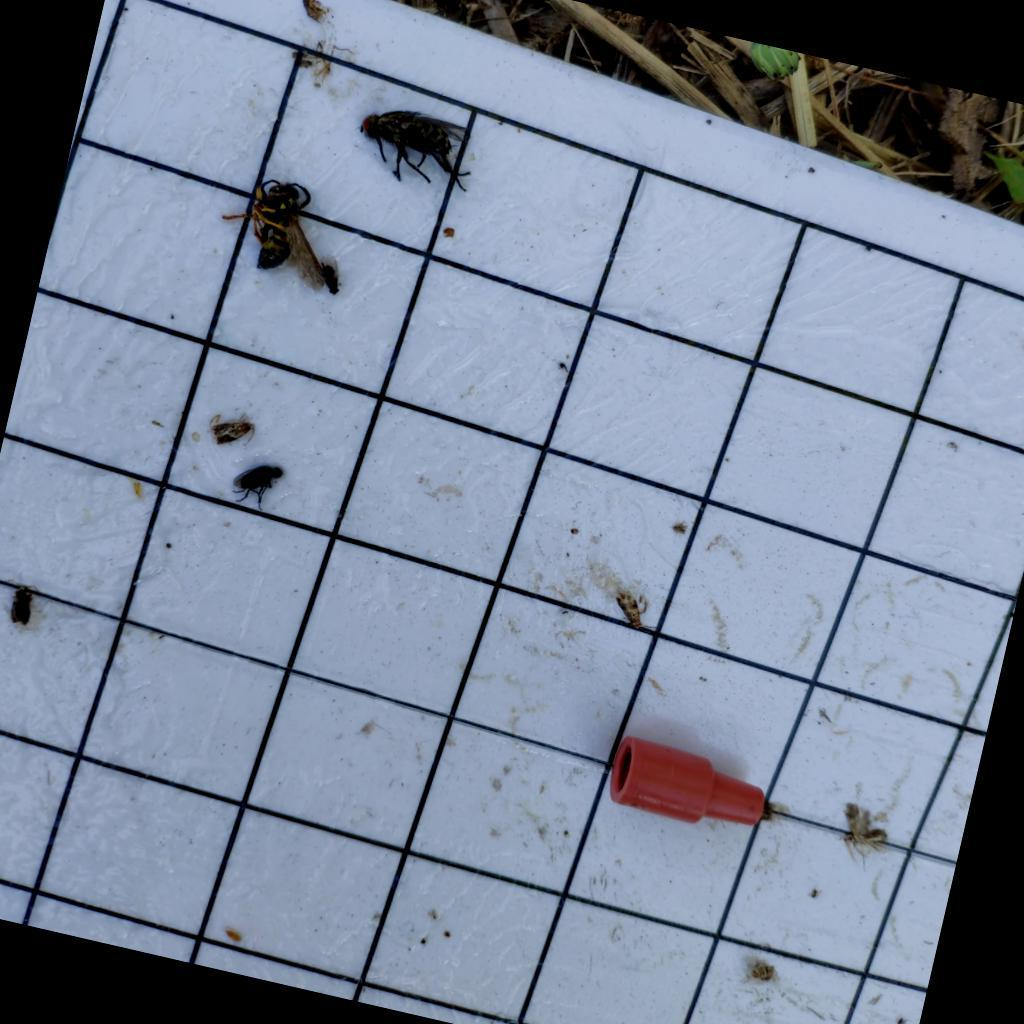grape_moth: (830, 799, 902, 876), (608, 585, 667, 636), (207, 412, 258, 453), (746, 954, 782, 987)
